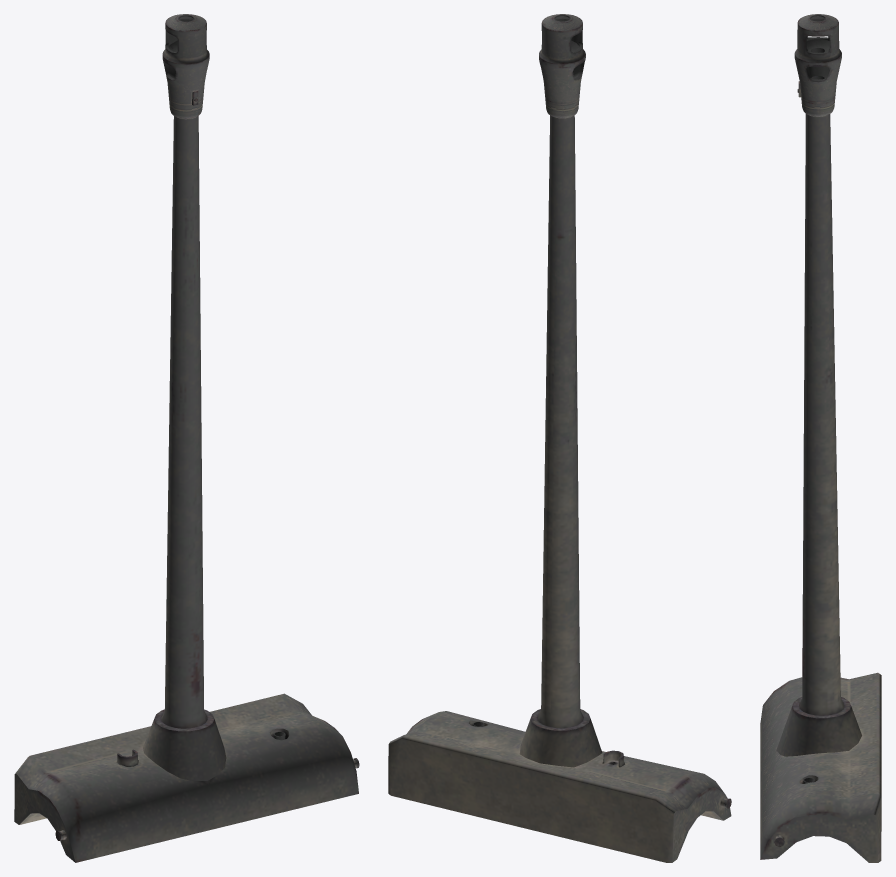
The model's file is Gun_01.glb.
3 renders of one model, left to right at view 1: azimuth 30°, elevation 25°; view 2: azimuth 150°, elevation 25°; view 3: azimuth 270°, elevation 25°, orthographic. The views are drawn at different scales.
Parts seen in each view (by area): view 1: set_0_group_0; view 2: set_0_group_0; view 3: set_0_group_0.
Boxes of the visible parts, x1,y1,x2,y2 form: set_0_group_0: (14, 14, 359, 862); set_0_group_0: (388, 14, 731, 862); set_0_group_0: (760, 14, 881, 862).
Size of the model in its own units: 1.76 by 4.45 by 0.6316.
Materials: 1 (1 with a texture image).
